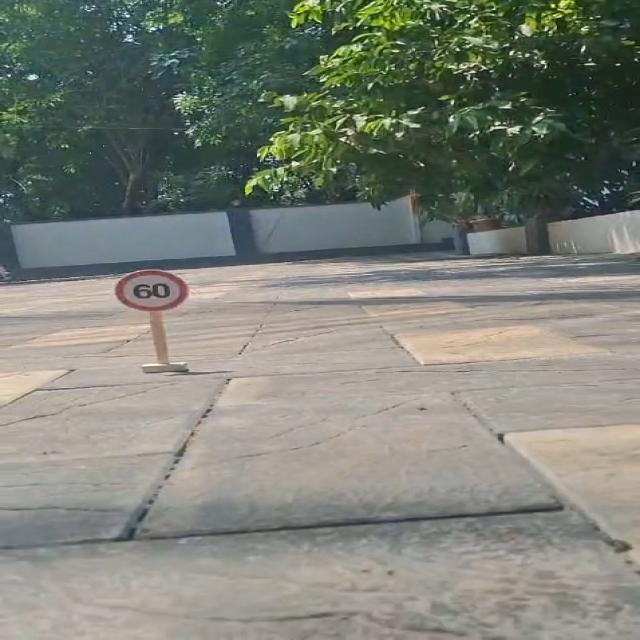Speed60: (111, 266, 190, 314)
